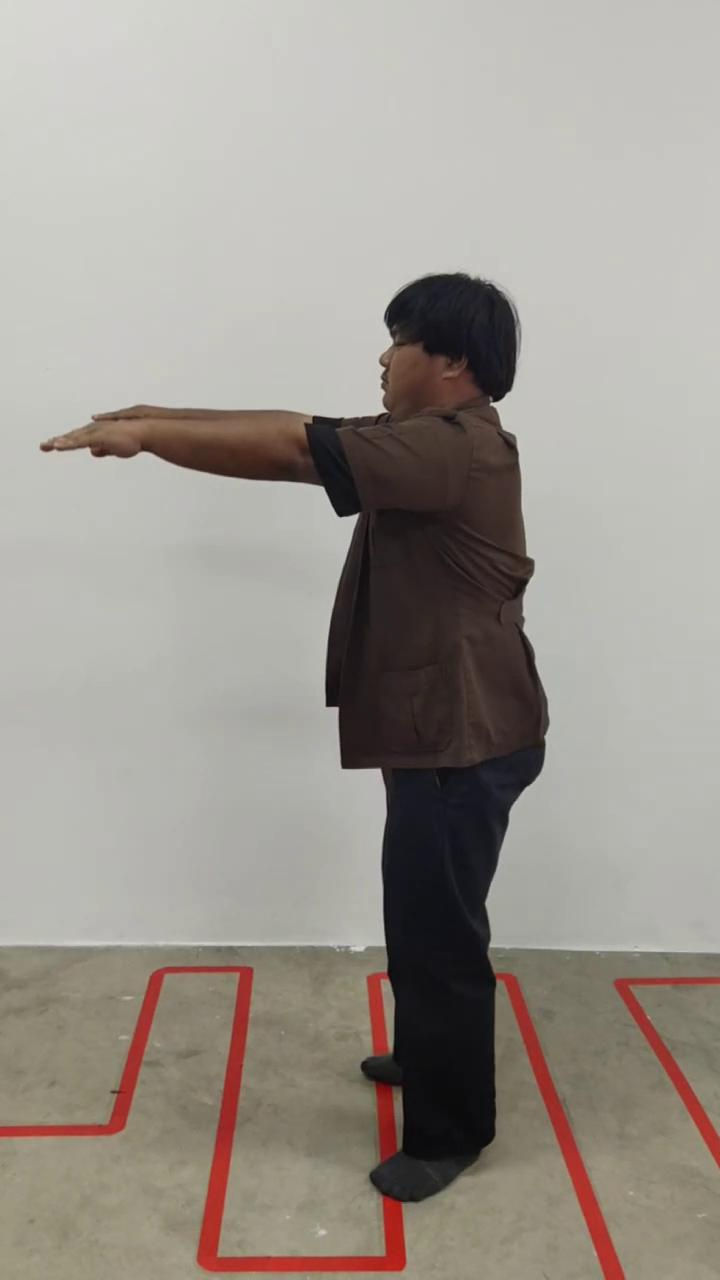squat up: (50, 272, 550, 1205)
